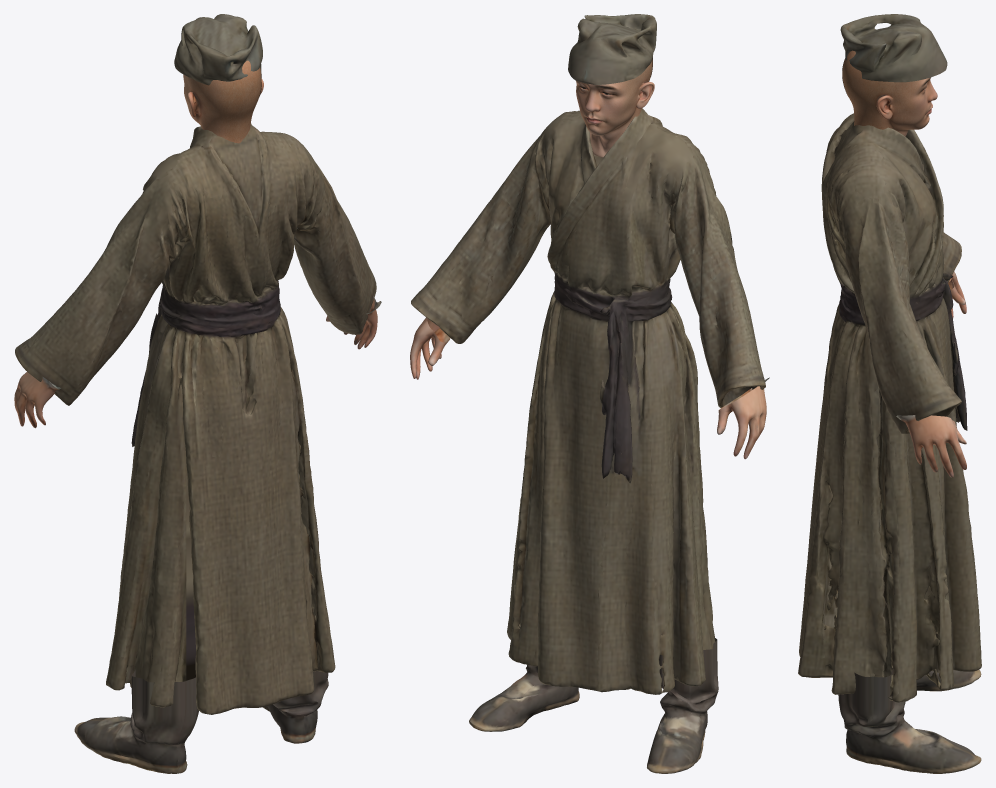
Rendered from Parts.fbx.
3 views of the same model, side by side, from view 1: azimuth 30°, elevation 25°; view 2: azimuth 150°, elevation 25°; view 3: azimuth 270°, elevation 25° (orthographic). The views are drawn at different scales.
Parts seen in each view (by area): view 1: GAME_Seolpyeong_Surface; view 2: GAME_Seolpyeong_Surface; view 3: GAME_Seolpyeong_Surface.
Boxes of the visible parts, <box> form: GAME_Seolpyeong_Surface: <box>14,14,381,773</box>; GAME_Seolpyeong_Surface: <box>410,14,769,773</box>; GAME_Seolpyeong_Surface: <box>798,14,981,773</box>.
Bounding box in the file's own units: 87 × 168 × 40.08.
